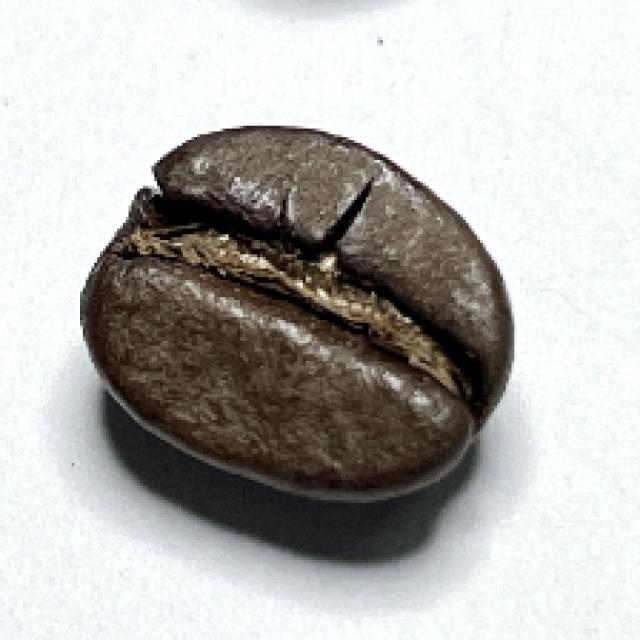bean: (79, 123, 517, 502)
